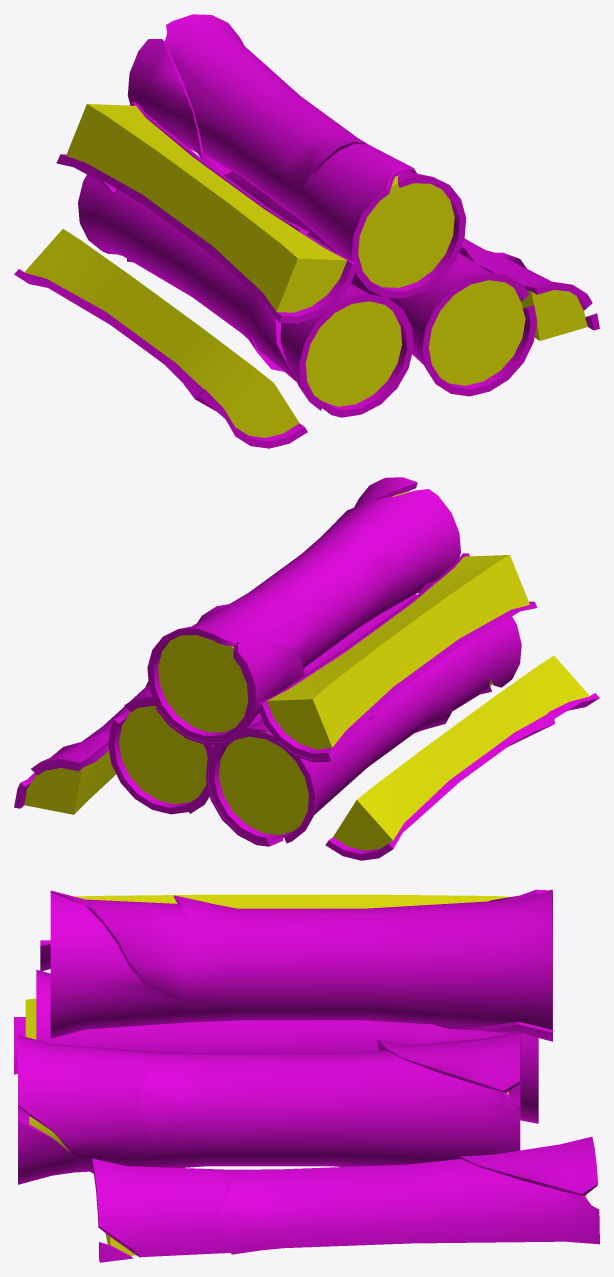
Rendered from F_Firewood_Group.fbx.
3 renders of one model, top to bottom at view 1: azimuth 30°, elevation 25°; view 2: azimuth 150°, elevation 25°; view 3: azimuth 270°, elevation 25°, orthographic. The views are drawn at different scales.
Visible parts, largest first — view 1: Cylinder079; view 2: Cylinder079; view 3: Cylinder079.
Part boxes in pixels (<box>): Cylinder079: <box>14,14,599,448</box>; Cylinder079: <box>14,477,599,860</box>; Cylinder079: <box>14,889,599,1262</box>.
Size of the model in its own units: 210 by 111 by 233.
